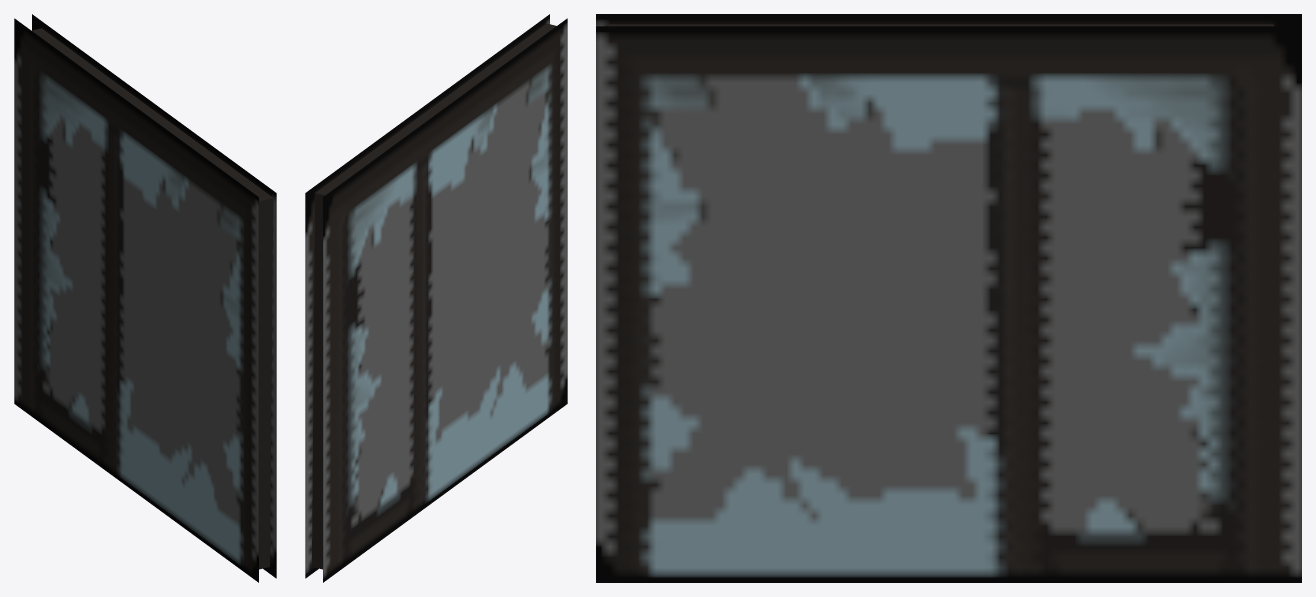
File: pz_native_fixtures_windows_01_52_frame.obj
3 views of the same model, side by side, from view 1: azimuth 30°, elevation 25°; view 2: azimuth 150°, elevation 25°; view 3: azimuth 270°, elevation 25° (orthographic). The views are drawn at different scales.
Visible parts, largest first — view 1: pz_native_fixtures_windows_01_52_frame; view 2: pz_native_fixtures_windows_01_52_frame; view 3: pz_native_fixtures_windows_01_52_frame.
Part boxes in pixels (box(x1,y1,x2,y2)): pz_native_fixtures_windows_01_52_frame: box(14, 14, 276, 582); pz_native_fixtures_windows_01_52_frame: box(305, 14, 567, 582); pz_native_fixtures_windows_01_52_frame: box(596, 14, 1301, 582).
Bounding box in the file's own units: 0.04 × 0.8438 × 0.9696.
Materials: 1 (1 with a texture image).
